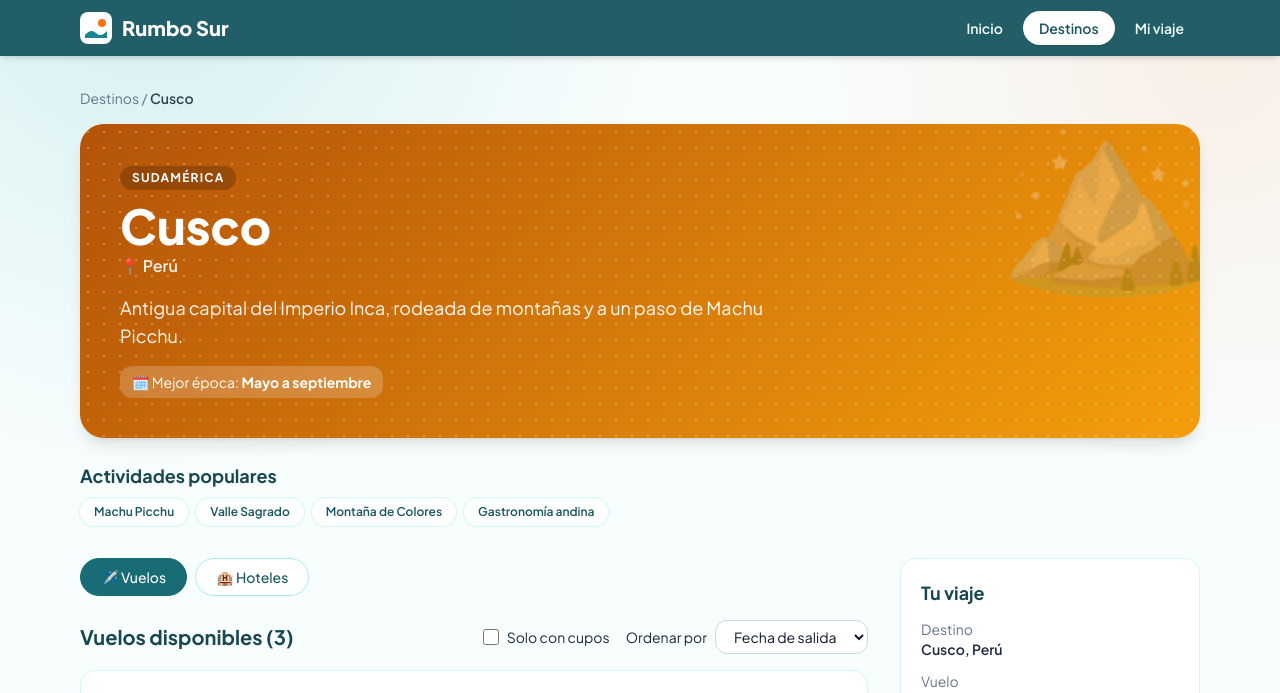
API GraphQL mock + navegación › ordena vuelos por precio y filtra los que tienen cupos
Expected: the heading "Vuelos disponibles (3)" is shown, [80, 623, 294, 651]
Select "Menor precio" in the dropdown labelled "Ordenar por" at (792, 637), box [715, 620, 868, 654]
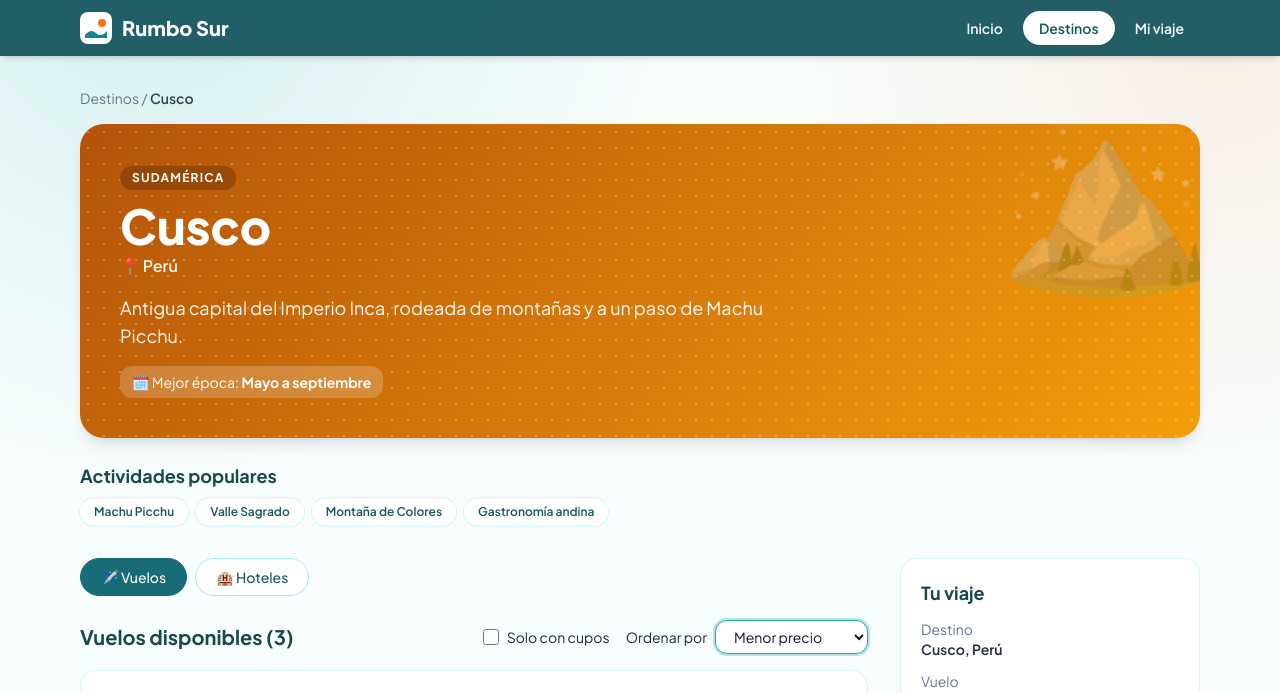
Click the checkbox labelled "Solo con cupos".
click(491, 637)  # box [483, 629, 499, 645]
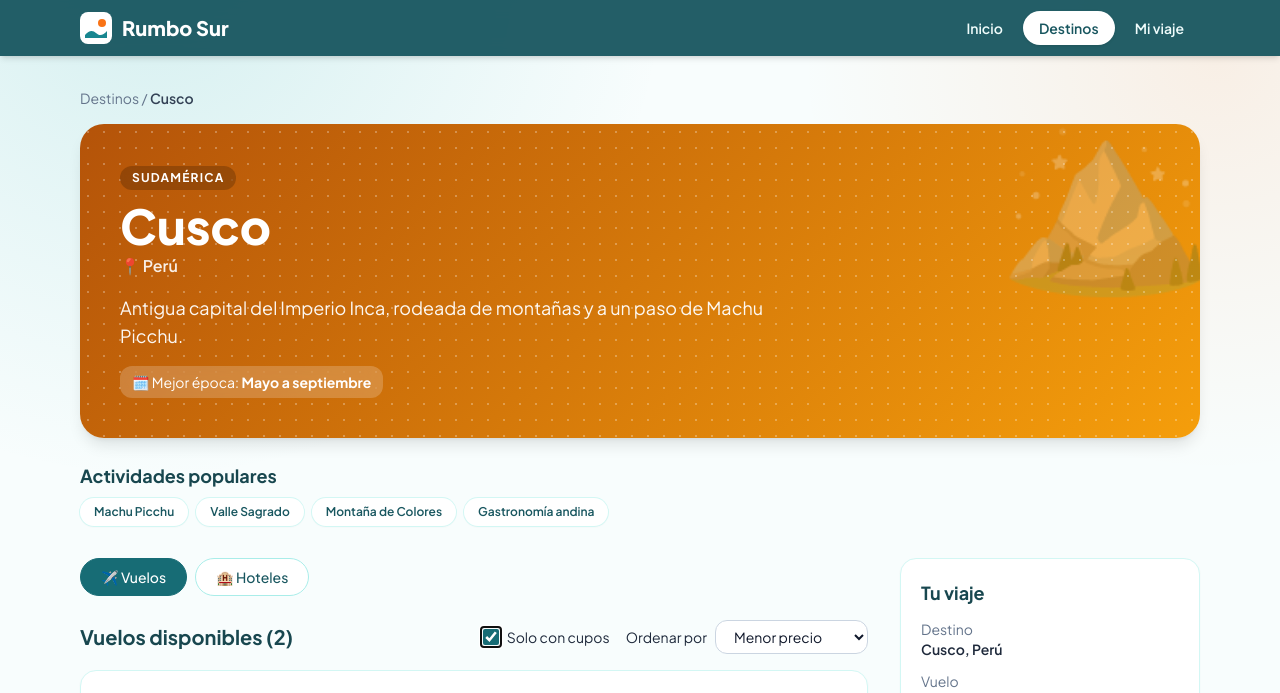
Expected: the heading "Vuelos disponibles (2)" is shown, [80, 623, 293, 651]
